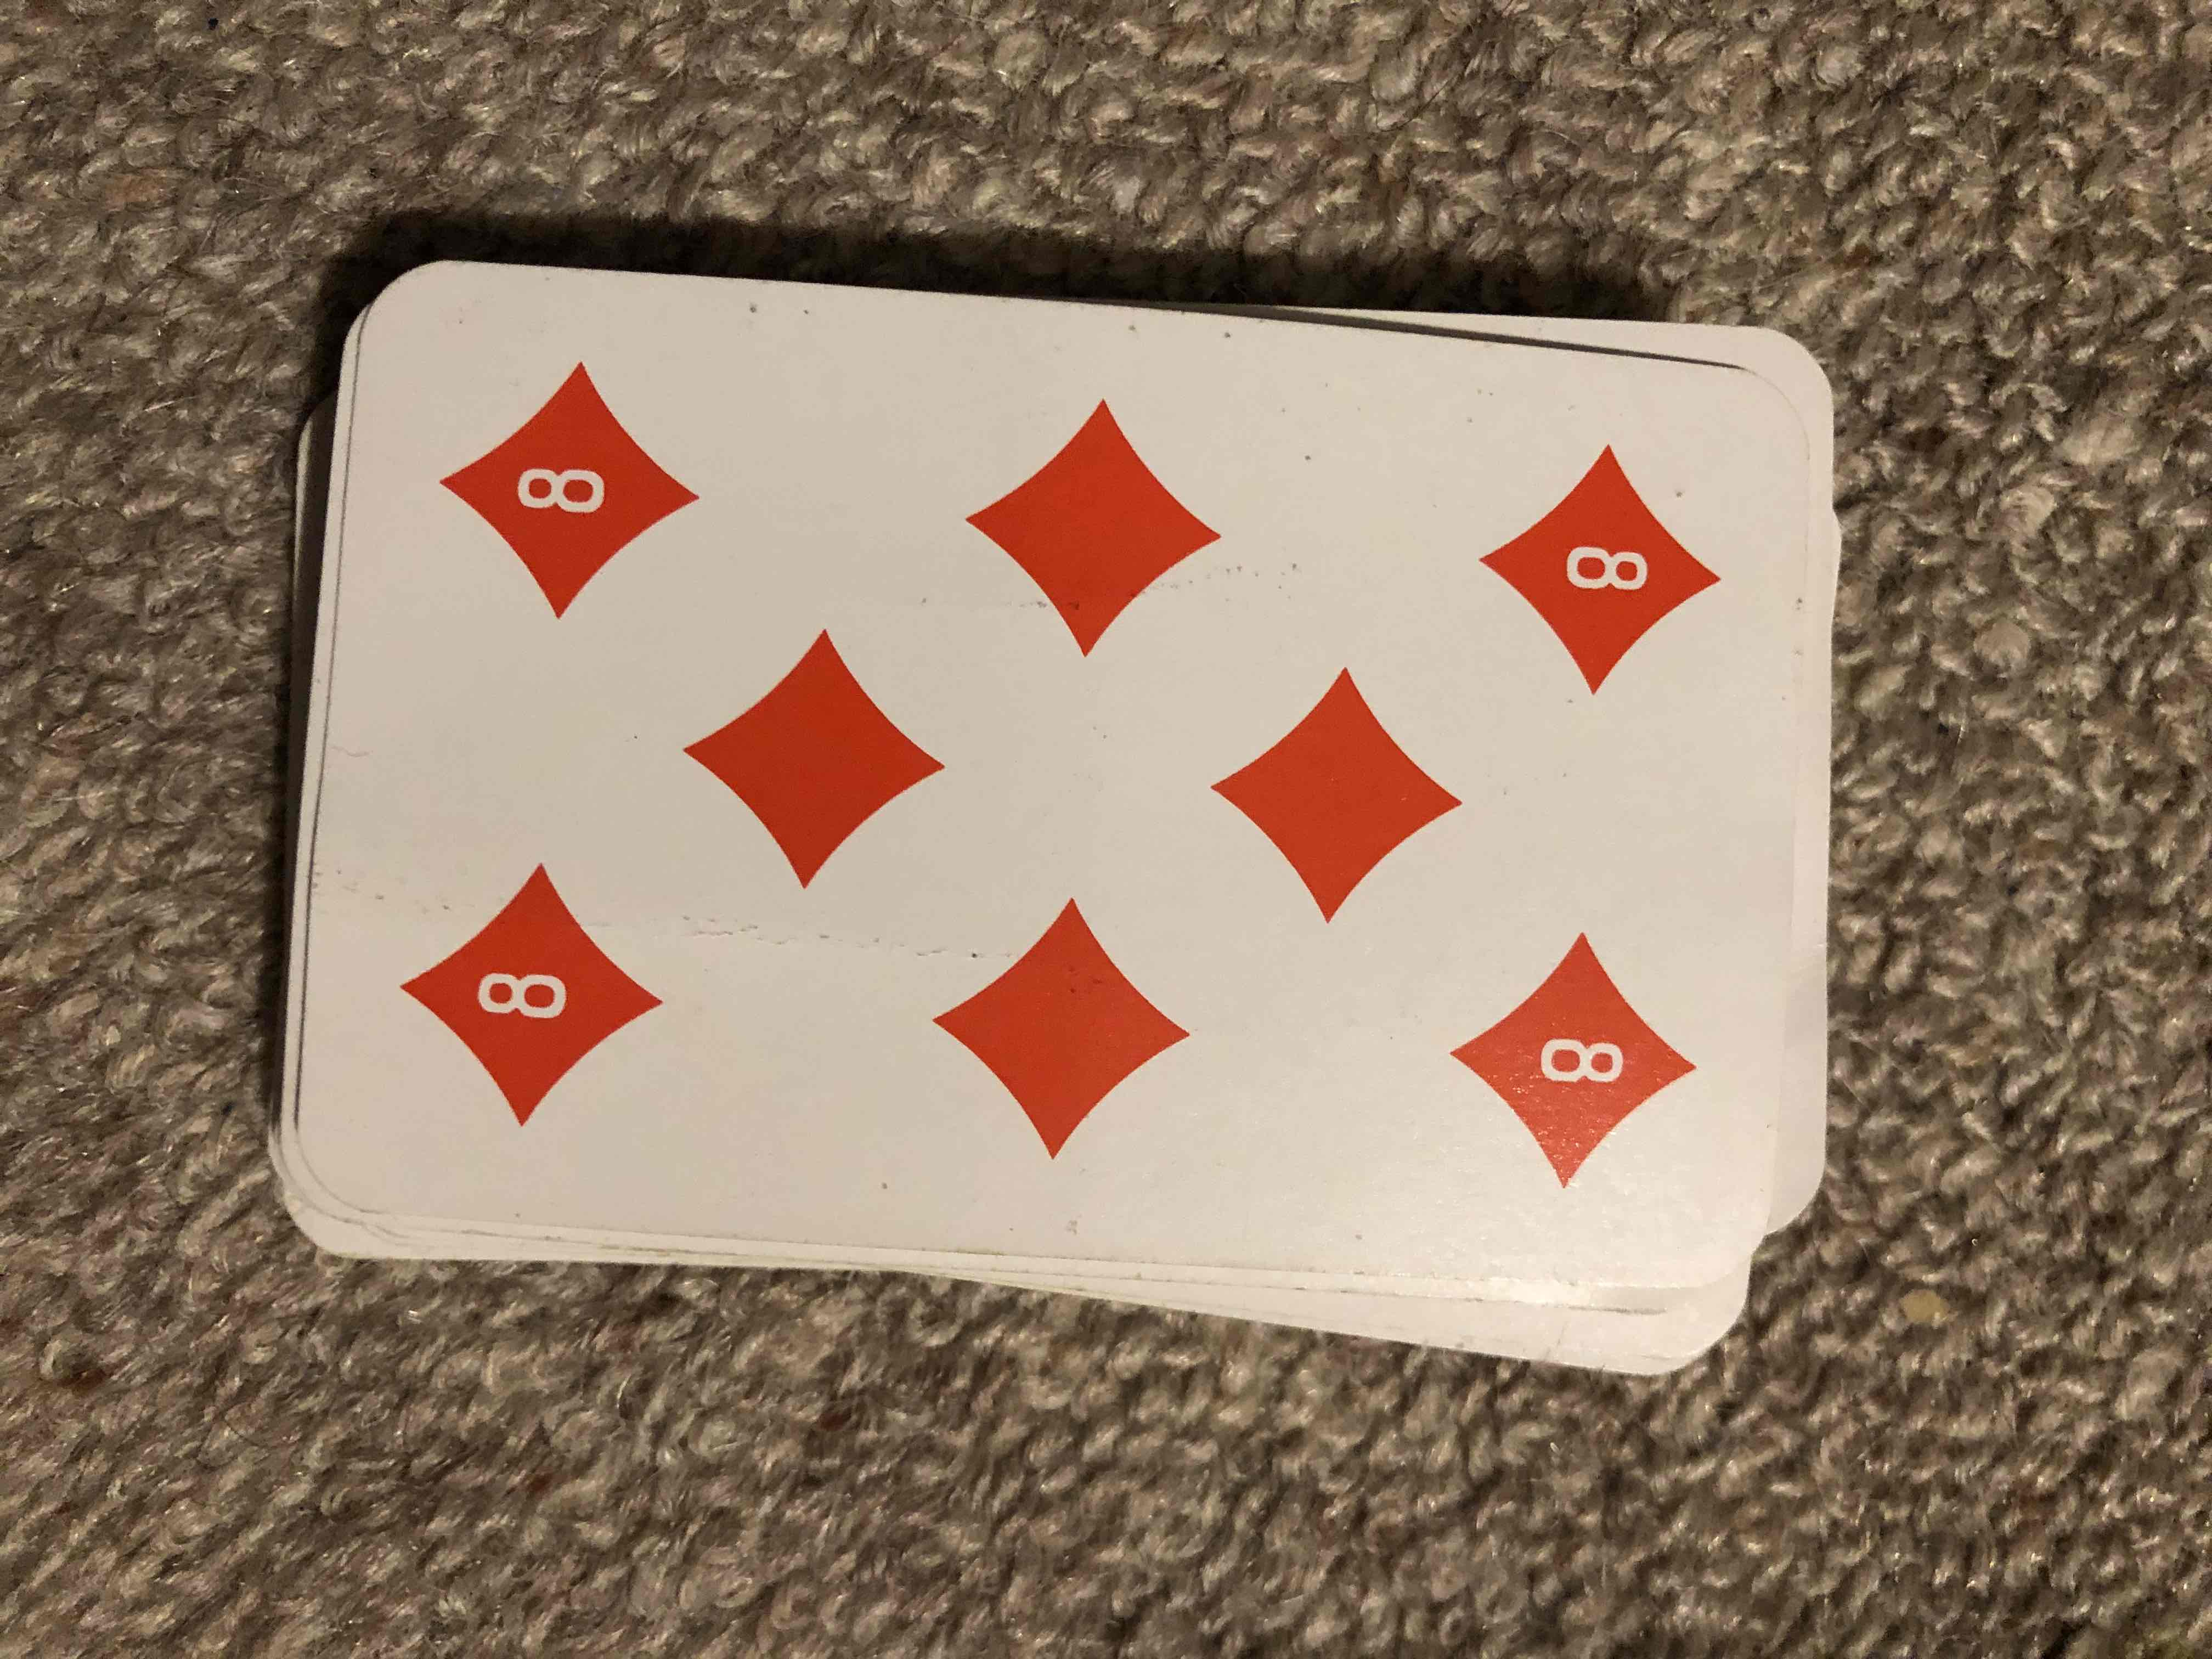diamond8: (357, 232, 1787, 1248)
